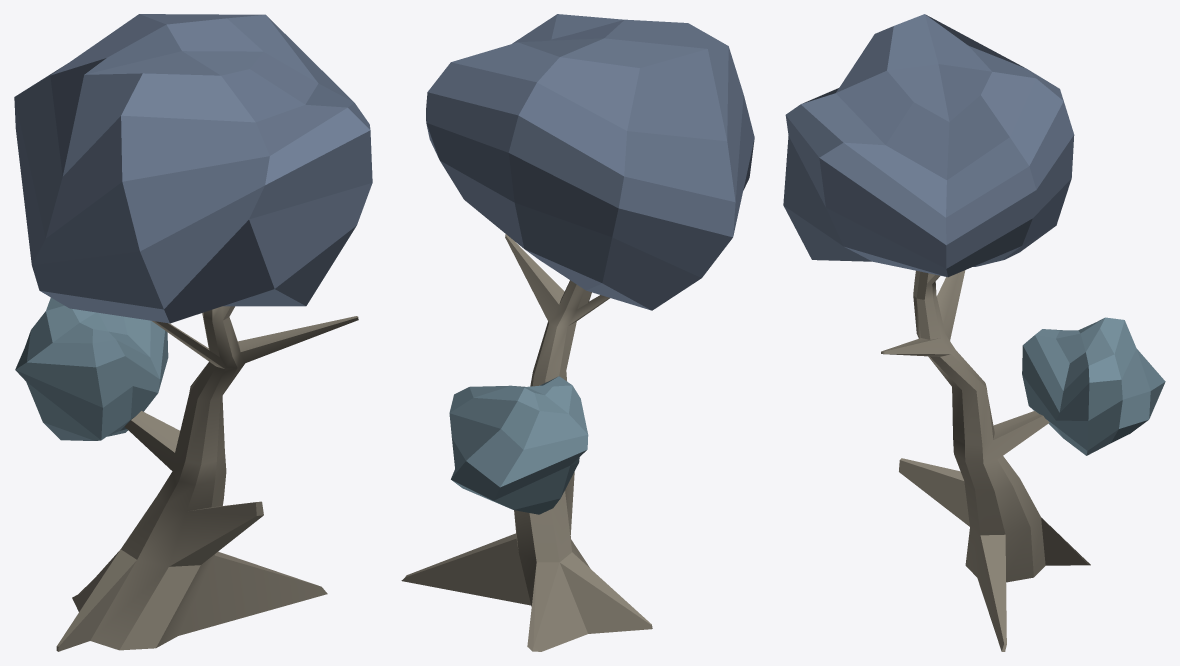
The model's file is AssetArbolLAzul.fbx.
3 views of the same model, side by side, from view 1: azimuth 30°, elevation 25°; view 2: azimuth 150°, elevation 25°; view 3: azimuth 270°, elevation 25° (orthographic). The views are drawn at different scales.
Parts seen in each view (by area): view 1: pSphere1, pCylinder25, pSphere2; view 2: pSphere1, pCylinder25, pSphere2; view 3: pSphere1, pCylinder25, pSphere2.
Boxes of the visible parts, x1,y1,x2,y2 form: pSphere1: (14, 14, 372, 323); pCylinder25: (56, 306, 358, 651); pSphere2: (15, 297, 168, 440); pSphere1: (426, 14, 754, 310); pCylinder25: (401, 234, 652, 651); pSphere2: (449, 376, 588, 514); pSphere1: (783, 14, 1074, 277); pCylinder25: (881, 270, 1090, 651); pSphere2: (1022, 317, 1165, 455).
Size of the model in its own units: 7.95 by 14.11 by 9.33.
